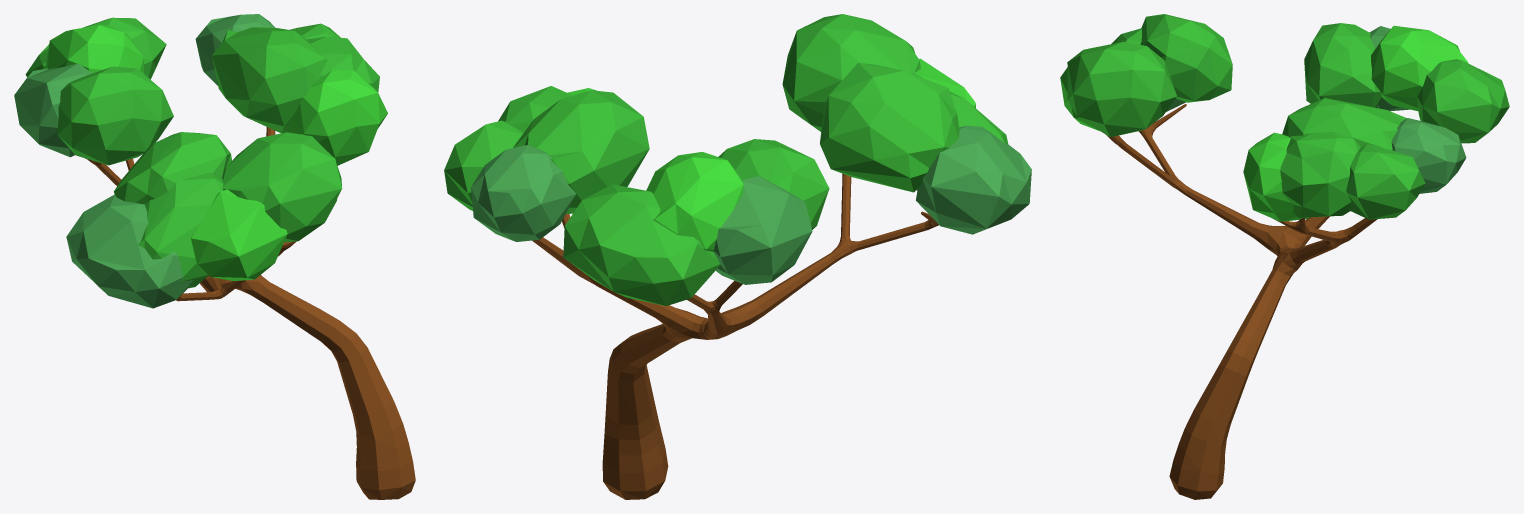
The model's file is CliffTree.fbx.
The picture shows the model from 3 angles, left to right: view 1: azimuth 30°, elevation 25°; view 2: azimuth 150°, elevation 25°; view 3: azimuth 270°, elevation 25°; orthographic projection. The views are drawn at different scales.
Parts seen in each view (by area): view 1: Cube, Icosphere.008, Icosphere.012, Icosphere.004, Icosphere.009, Icosphere.010, Icosphere, Icosphere.011, Icosphere.013, Icosphere.006, Icosphere.007, Icosphere.005 (+3 smaller); view 2: Cube, Icosphere.013, Icosphere.005, Icosphere.004, Icosphere.009, Icosphere.012, Icosphere.006, Icosphere.003, Icosphere.007, Icosphere.008, Icosphere.002, Icosphere.001 (+2 smaller); view 3: Cube, Icosphere.012, Icosphere.013, Icosphere.001, Icosphere.005, Icosphere.008, Icosphere.007, Icosphere.002, Icosphere.004, Icosphere.003, Icosphere.
Part boxes in pixels (left/top/right/bottom): Cube: left=85, top=127, right=415, bottom=499; Icosphere.008: left=56, top=66, right=173, bottom=165; Icosphere.012: left=222, top=132, right=342, bottom=242; Icosphere.004: left=211, top=27, right=326, bottom=133; Icosphere.009: left=66, top=194, right=193, bottom=308; Icosphere.010: left=191, top=189, right=287, bottom=281; Icosphere: left=286, top=70, right=387, bottom=165; Icosphere.011: left=138, top=172, right=223, bottom=288; Icosphere.013: left=114, top=132, right=231, bottom=204; Icosphere.006: left=14, top=63, right=92, bottom=157; Icosphere.007: left=45, top=25, right=143, bottom=73; Icosphere.005: left=25, top=17, right=166, bottom=79; Cube: left=532, top=173, right=938, bottom=499; Icosphere.013: left=820, top=62, right=959, bottom=192; Icosphere.005: left=563, top=184, right=720, bottom=305; Icosphere.004: left=513, top=90, right=649, bottom=213; Icosphere.009: left=916, top=125, right=1031, bottom=234; Icosphere.012: left=782, top=14, right=920, bottom=131; Icosphere.006: left=713, top=176, right=812, bottom=284; Icosphere.003: left=471, top=145, right=576, bottom=241; Icosphere.007: left=646, top=152, right=743, bottom=251; Icosphere.008: left=718, top=139, right=829, bottom=229; Icosphere.002: left=444, top=120, right=523, bottom=210; Icosphere.001: left=498, top=86, right=572, bottom=131; Cube: left=1103, top=104, right=1377, bottom=499; Icosphere.012: left=1067, top=42, right=1176, bottom=137; Icosphere.013: left=1140, top=14, right=1232, bottom=102; Icosphere.001: left=1280, top=132, right=1360, bottom=217; Icosphere.005: left=1417, top=59, right=1509, bottom=143; Icosphere.008: left=1304, top=23, right=1381, bottom=107; Icosphere.007: left=1371, top=25, right=1468, bottom=111; Icosphere.002: left=1346, top=144, right=1425, bottom=219; Icosphere.004: left=1282, top=98, right=1406, bottom=150; Icosphere.003: left=1391, top=118, right=1466, bottom=193; Icosphere: left=1243, top=132, right=1309, bottom=221.
Size of the model in its own units: 1104 by 1177 by 1231.
